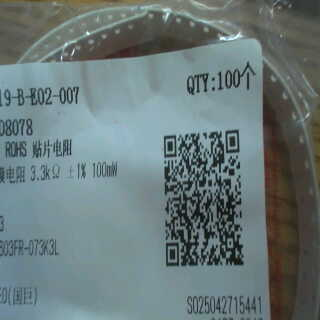3.3kO: (27, 159, 62, 184)
